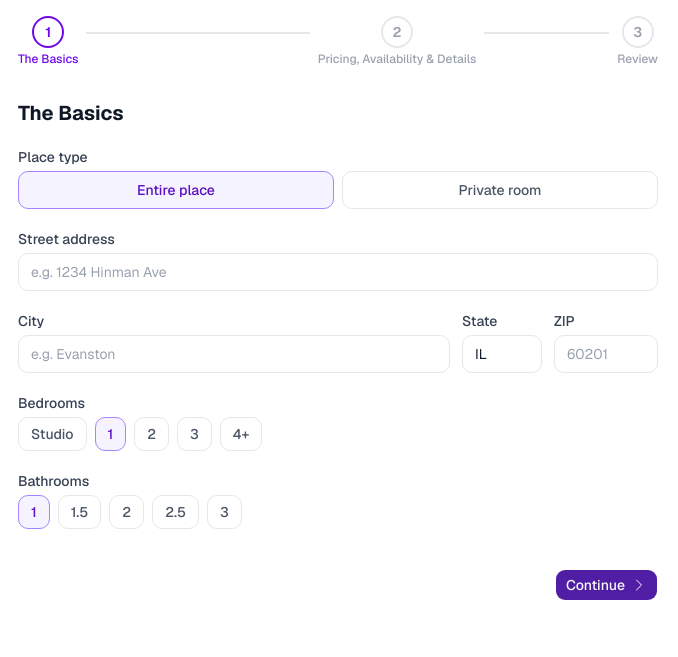
Test: ListingForm › step 1 rejects a ZIP code shorter than 5 digits
Type "1234 Hinman Ave" into the field with placeholder "e.g. 1234 Hinman Ave" at (338, 272), box [18,253,658,291]
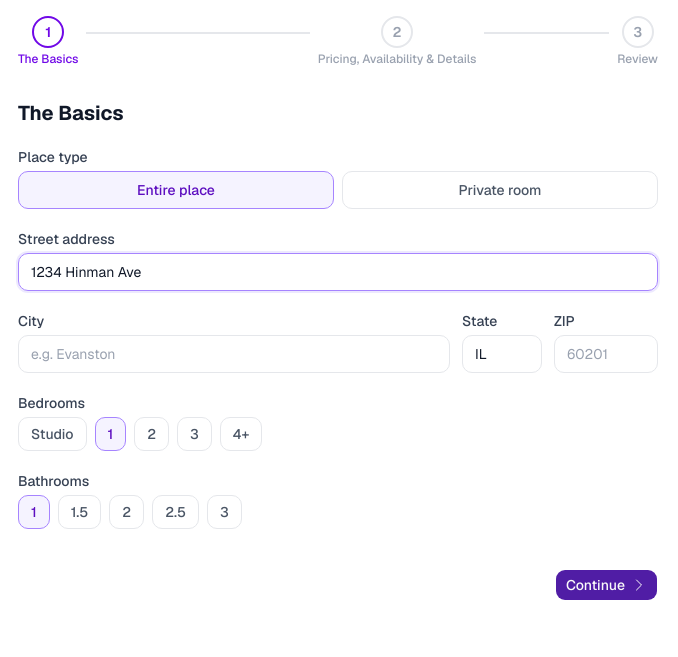
Type "Evanston" into the field with placeholder "e.g. Evanston" at (234, 354), box [18,335,450,373]
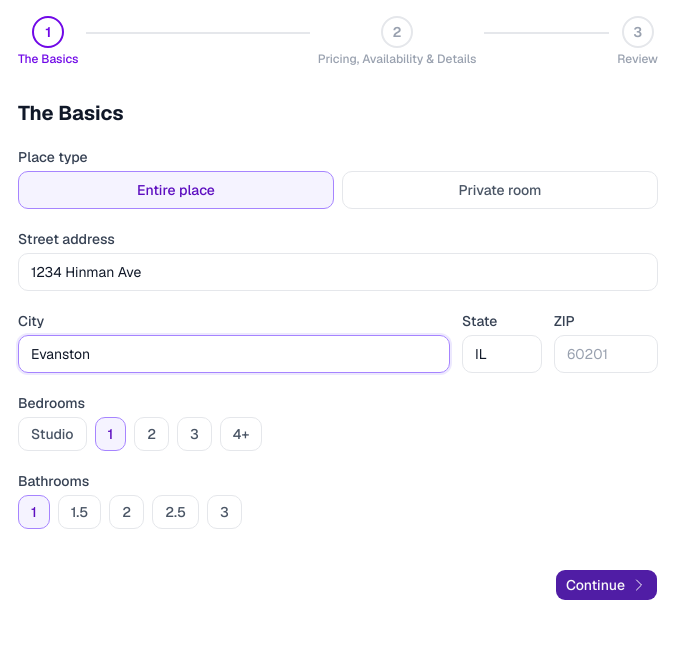
Type "6020" into the field with placeholder "60201" at (606, 354), box [554,335,658,373]
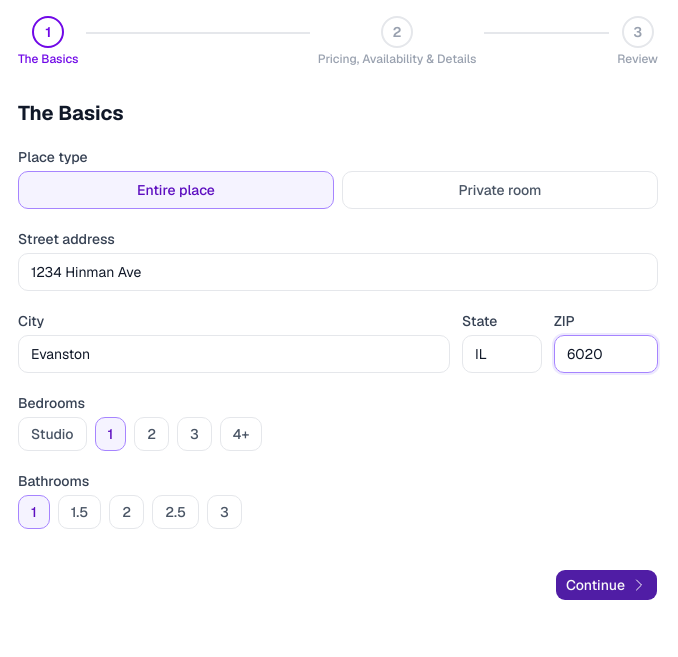
Click the button "Continue" at (606, 585), box [555,569,658,601]
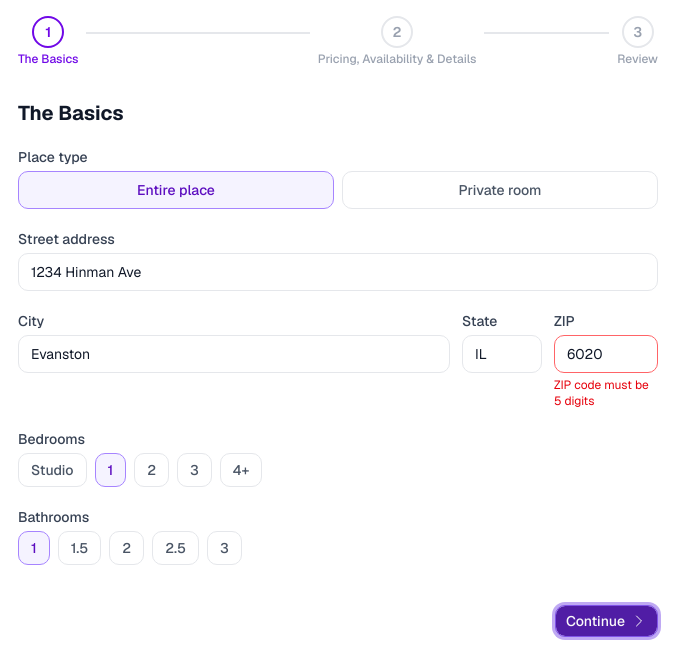
Expected: the heading "The Basics" is shown, [18,100,124,126]
Expected: the text "ZIP code must be 5 digits" is shown, [554,377,658,409]
